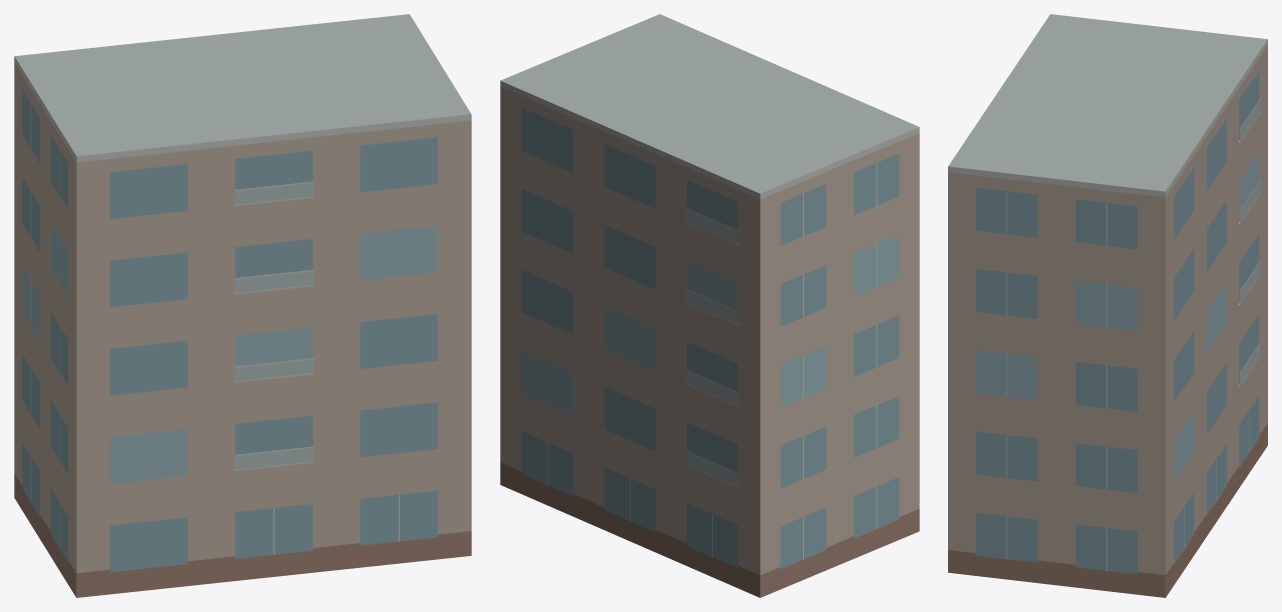
Rendered from survey-upis-32749694.glb.
3 views of the same model, side by side, from view 1: azimuth 30°, elevation 25°; view 2: azimuth 150°, elevation 25°; view 3: azimuth 270°, elevation 25° (orthographic). The views are drawn at different scales.
Visible parts, largest first — view 1: survey-upis-32749694.tmp; view 2: survey-upis-32749694.tmp; view 3: survey-upis-32749694.tmp.
Boxes of the visible parts, box(x1,y1,x2,y2) form: survey-upis-32749694.tmp: box(14, 14, 471, 597); survey-upis-32749694.tmp: box(500, 14, 919, 597); survey-upis-32749694.tmp: box(948, 14, 1267, 597).
Bounding box in the file's own units: 16.05 × 17.1 × 12.21.
